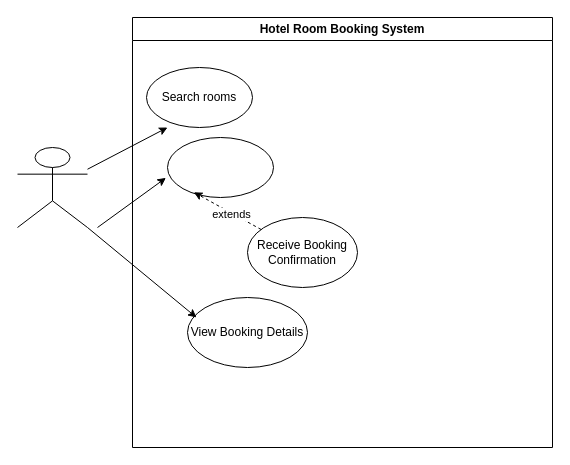
Some shapes in this 570 by 465 pixel diagram are drawn without their labels. The shapes that lost their labels are listed below. From the top down, each one's centre as x and y in pixels, then its label:
the point at 52,187: Guest
the point at 220,167: Make a reservation
